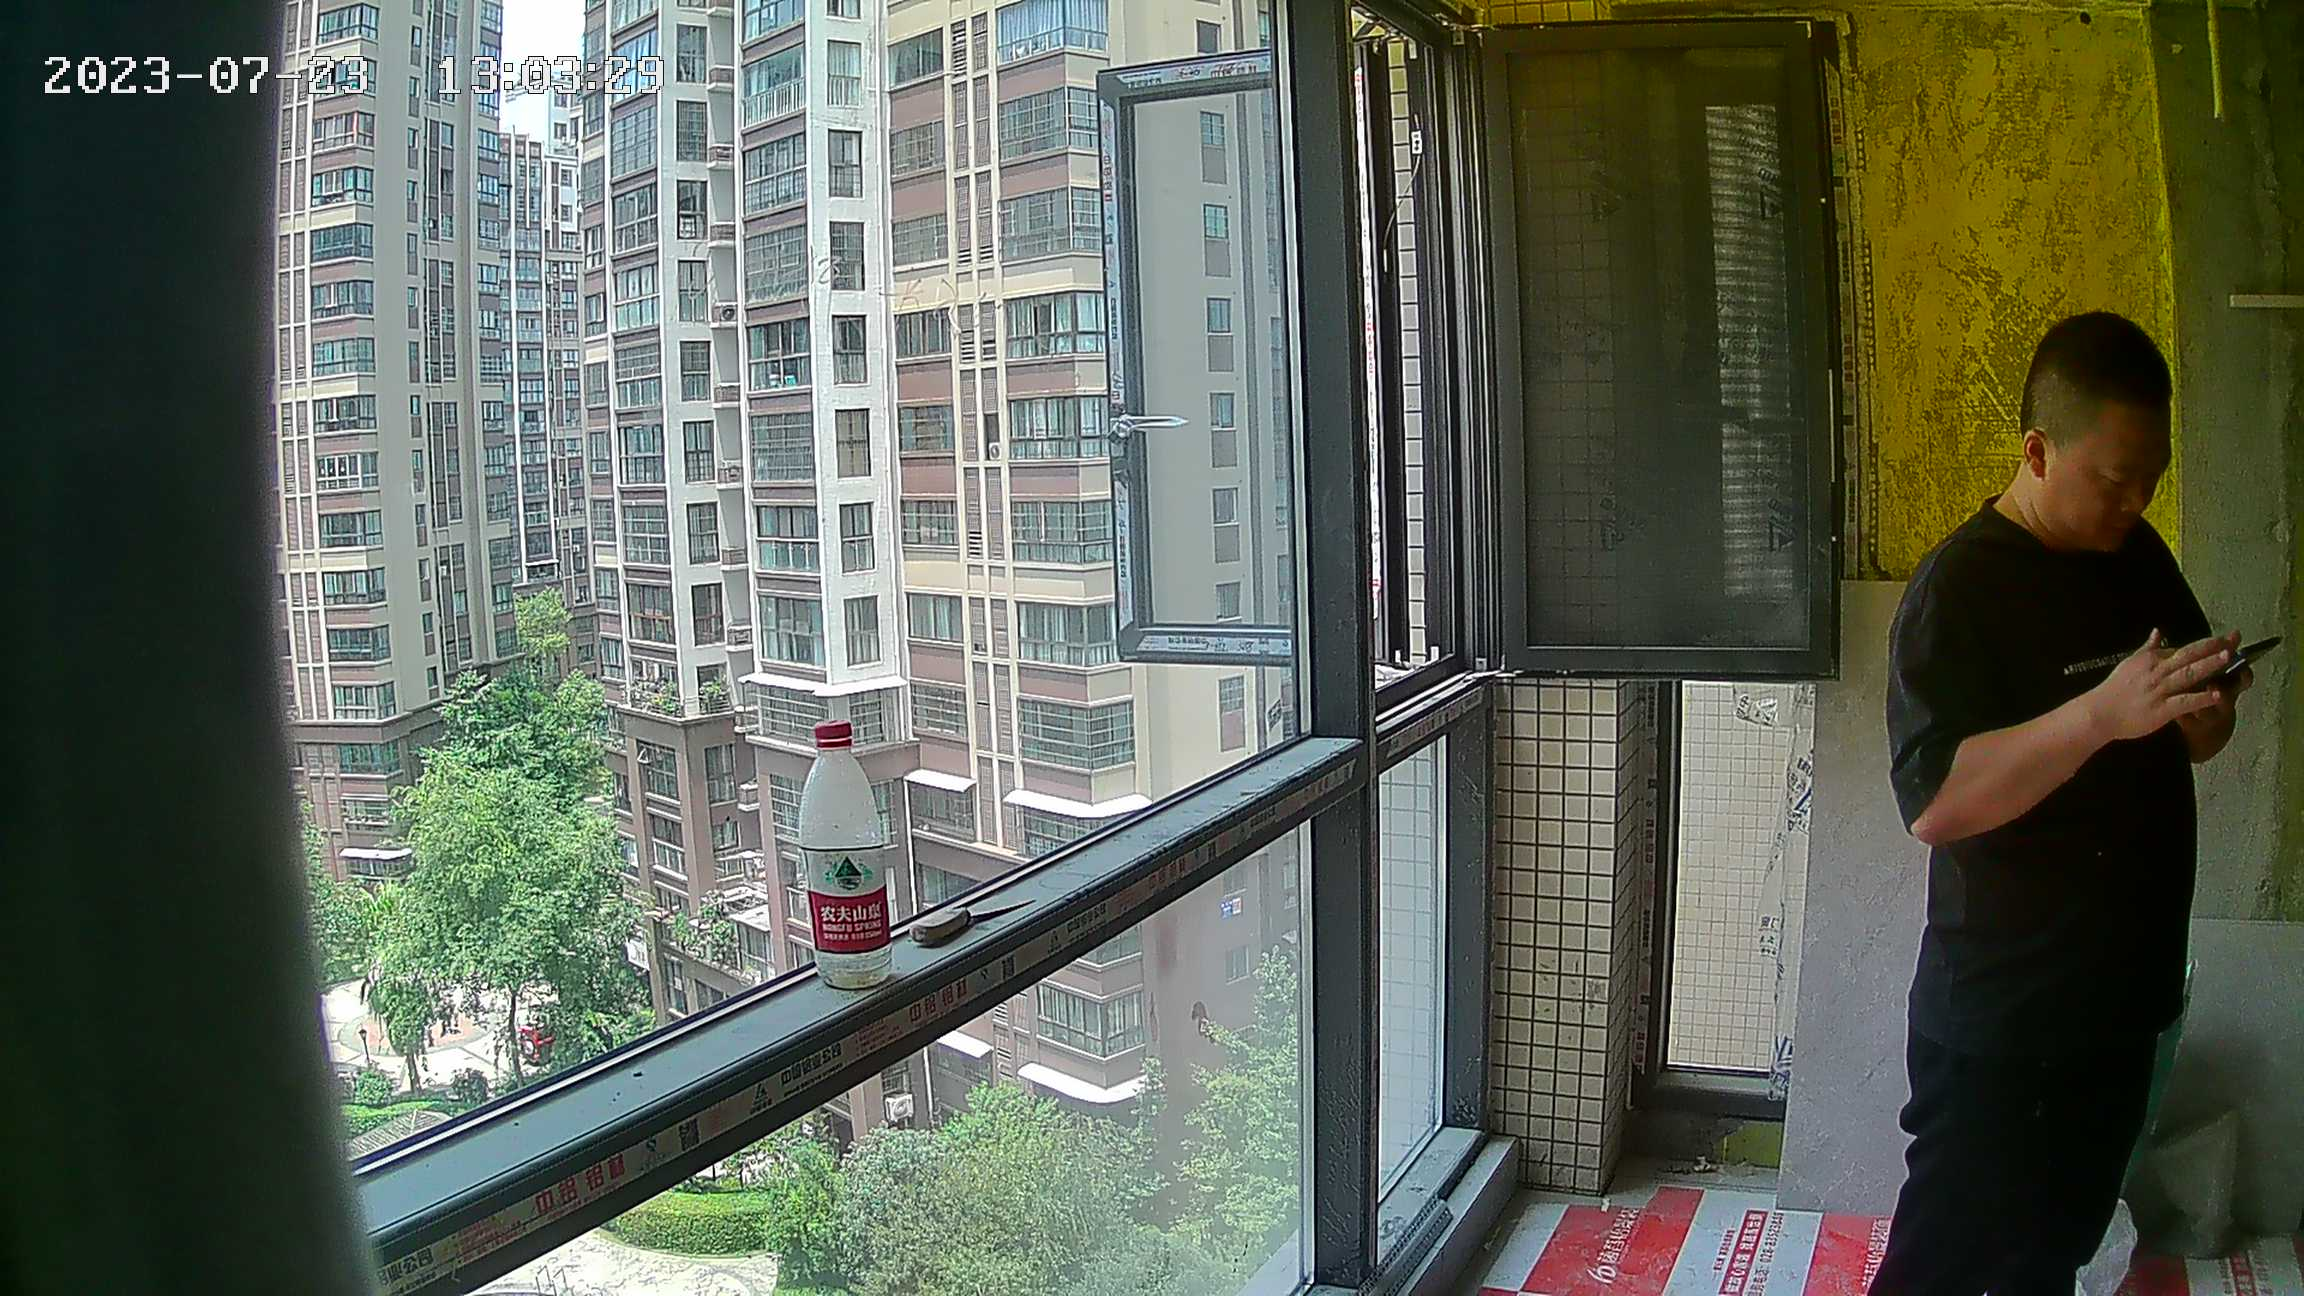people: (1892, 312, 2238, 1296)
window: (267, 5, 1470, 1296)
